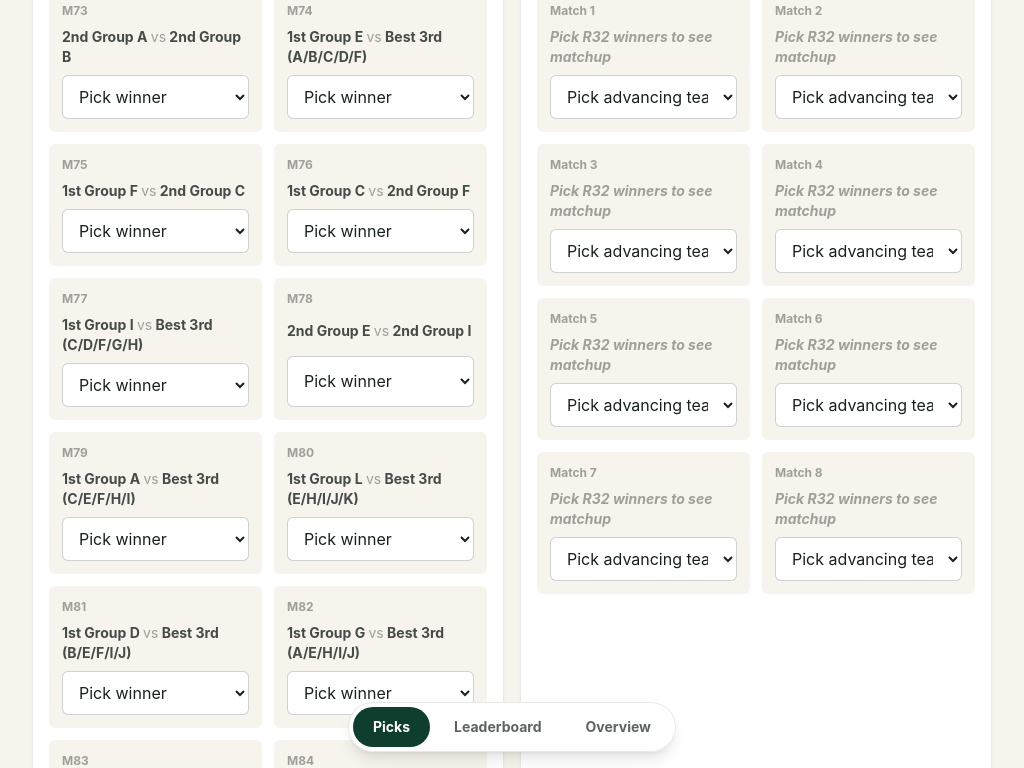
Scenario: Knockout page › flags duplicate picks in the same round with scores-once text
The image size is (1024, 768).
(page scrolled)
m77 (1I v 3rd) and m78 (2E v 2I) can both be won by a group I team.
Select "Norway" in the dropdown named "m77 winner" at (156, 384), box [62,362,249,406]
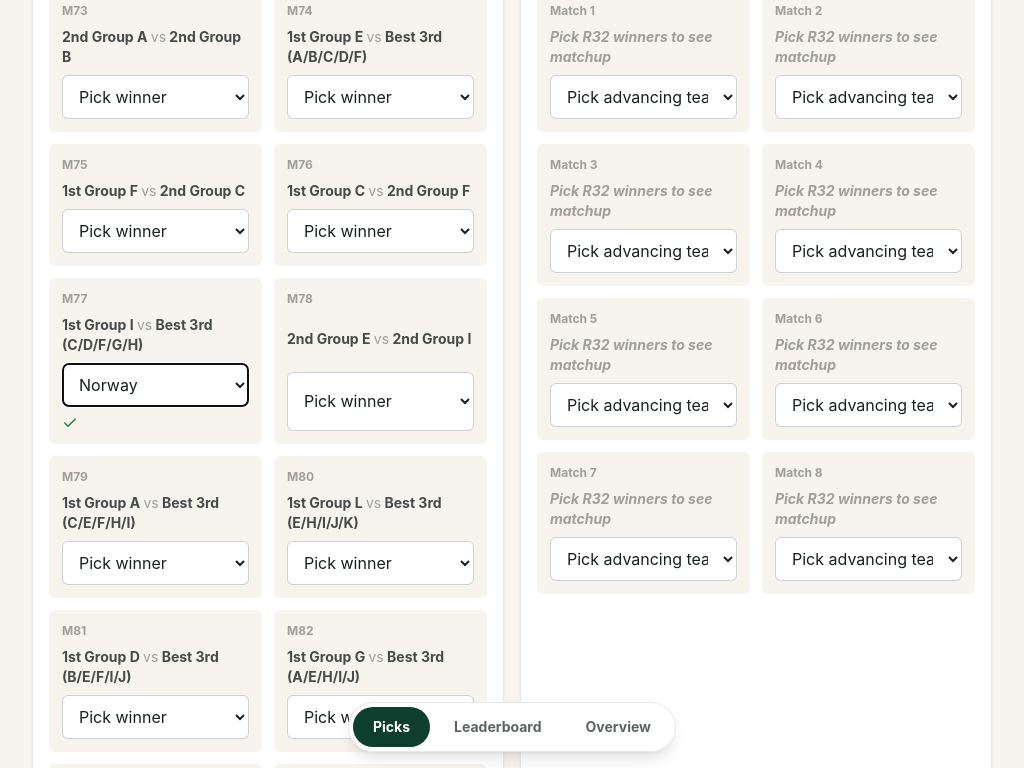
Select "Norway" in the dropdown named "m78 winner" at (380, 401), box [287,372,474,430]
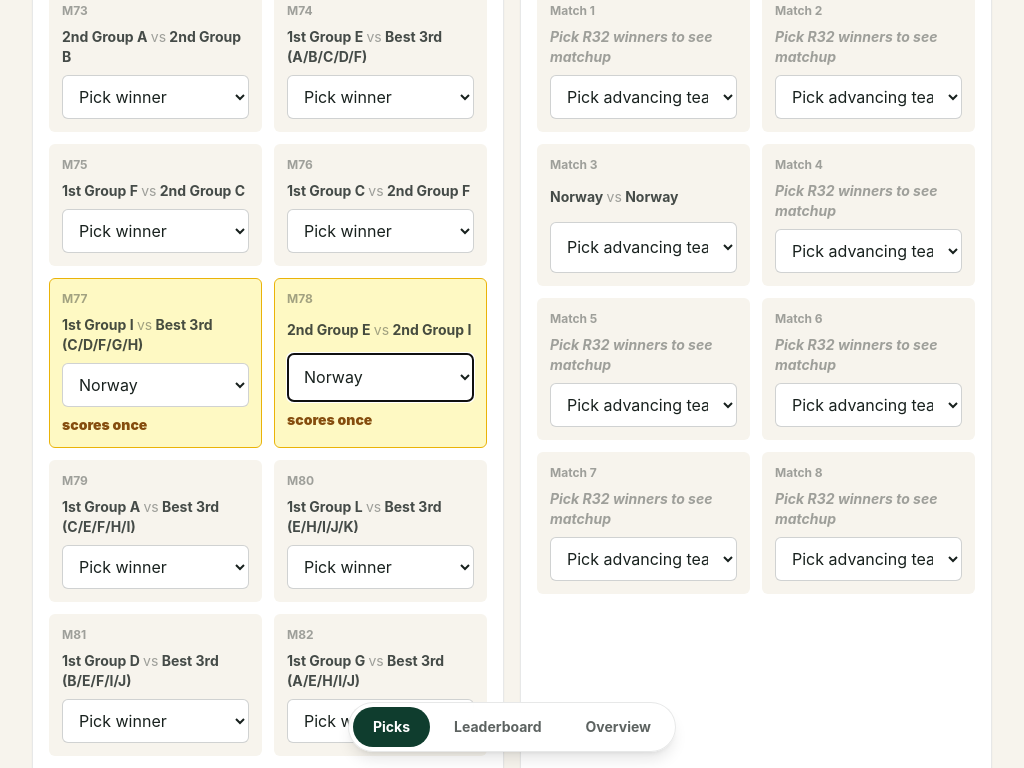
expect the text "scores once" is shown 2 times: met, box [62,416,147,432]; [287,410,372,428]
